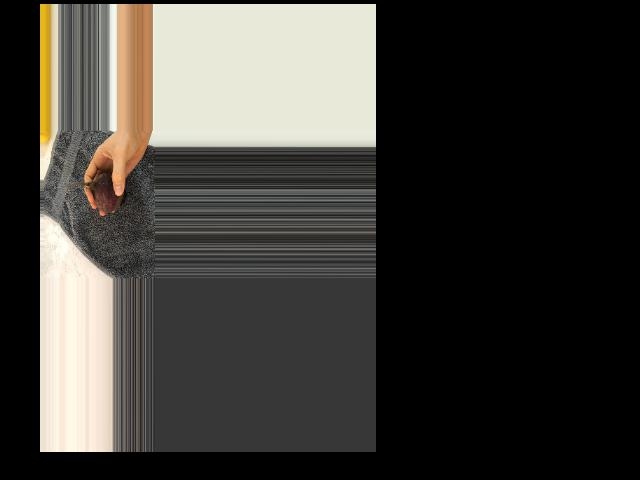beet: (66, 172, 127, 213)
